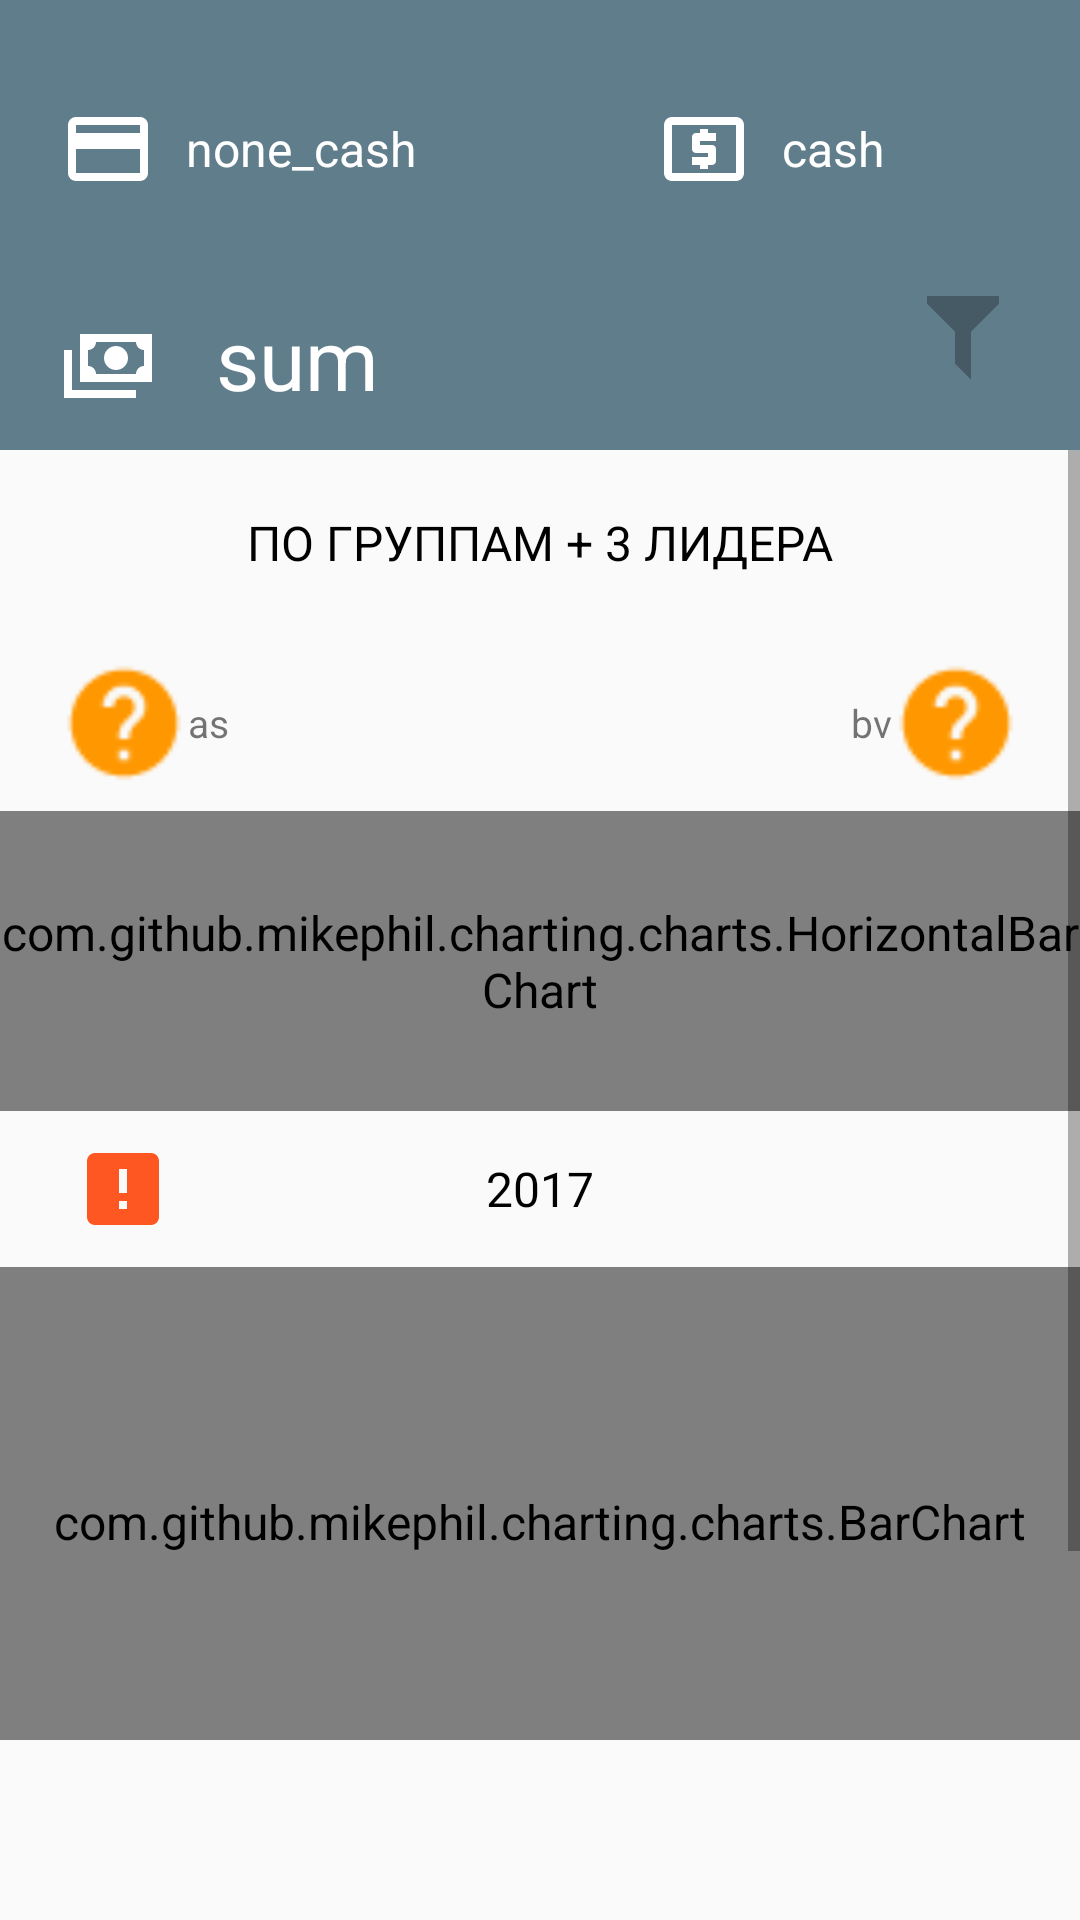

Locate icon controls on the screen. Image size 1080 x 1920, boxes as (x1, y1, x2, y2).
alert box: (87, 1153, 159, 1225)
filter: (927, 296, 999, 379)
